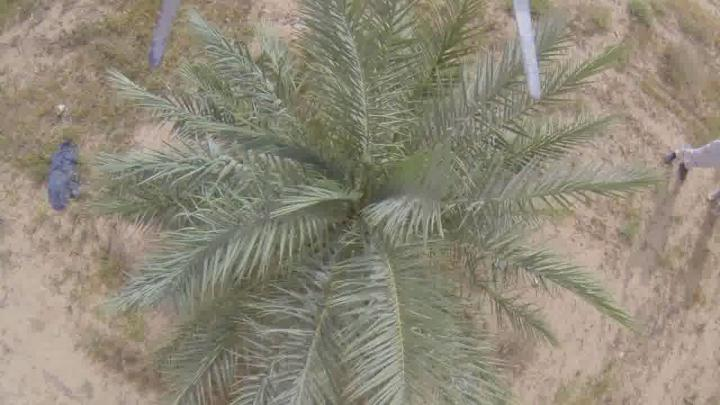Date-Palm-Crown: (201, 55, 503, 361)
